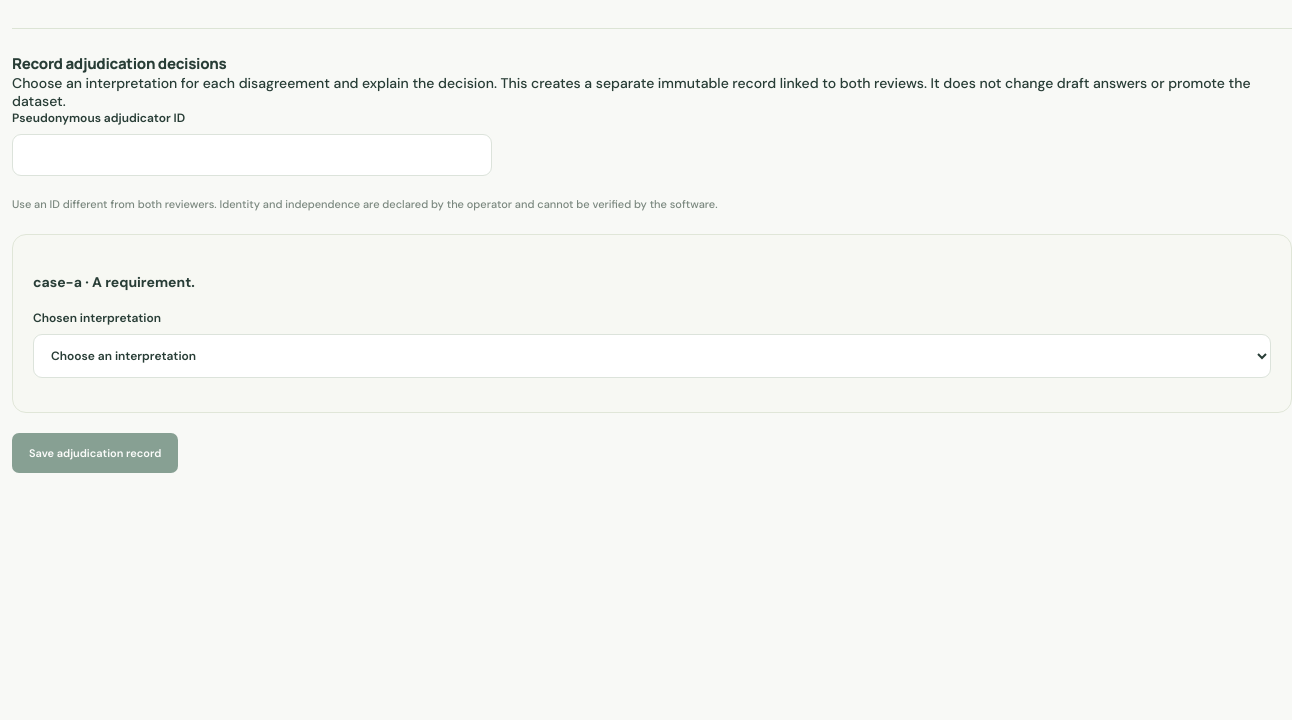
Test: selected decision is saved separately and a retry cannot create another record
Type "third-reviewer" into the field labelled "Pseudonymous adjudicator ID". click: (252,155)
box: top-left (12, 134), bottom-right (492, 176)
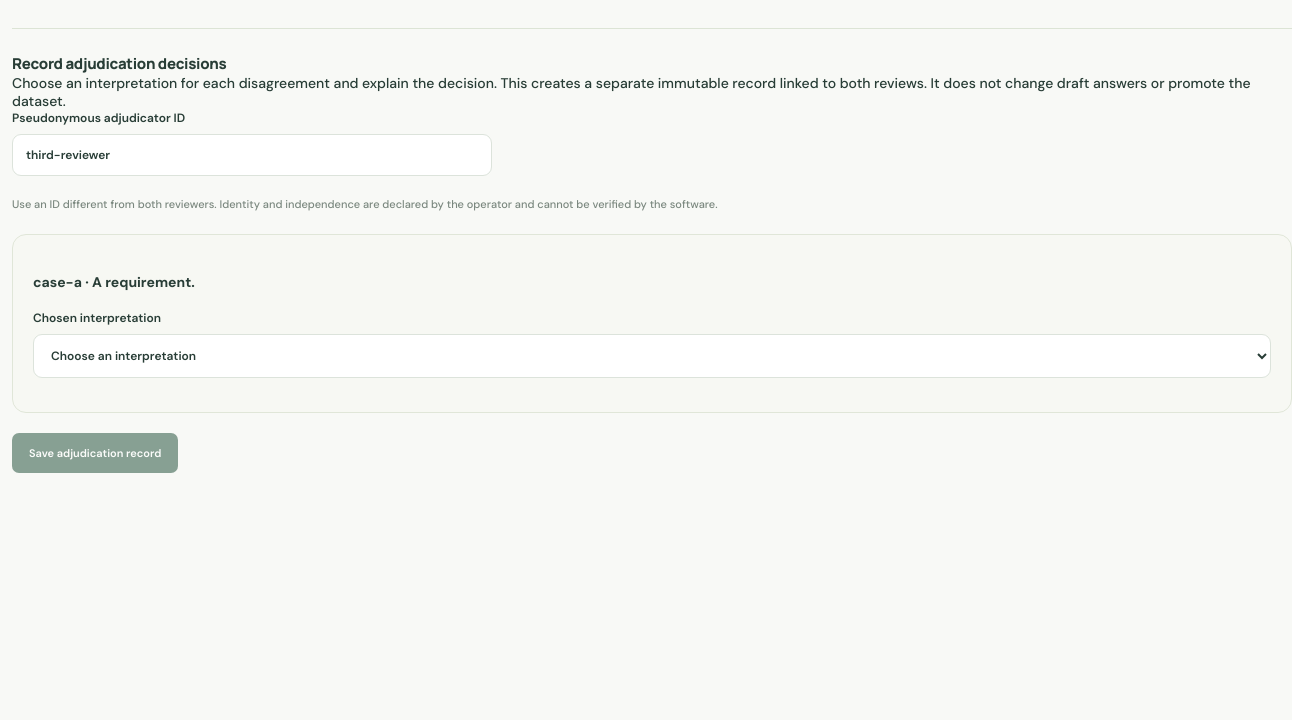
Select "reviewer-b" in the dropdown named "Chosen interpretation case-a". click: (652,356)
box: top-left (33, 334), bottom-right (1271, 378)
(page scrolled)
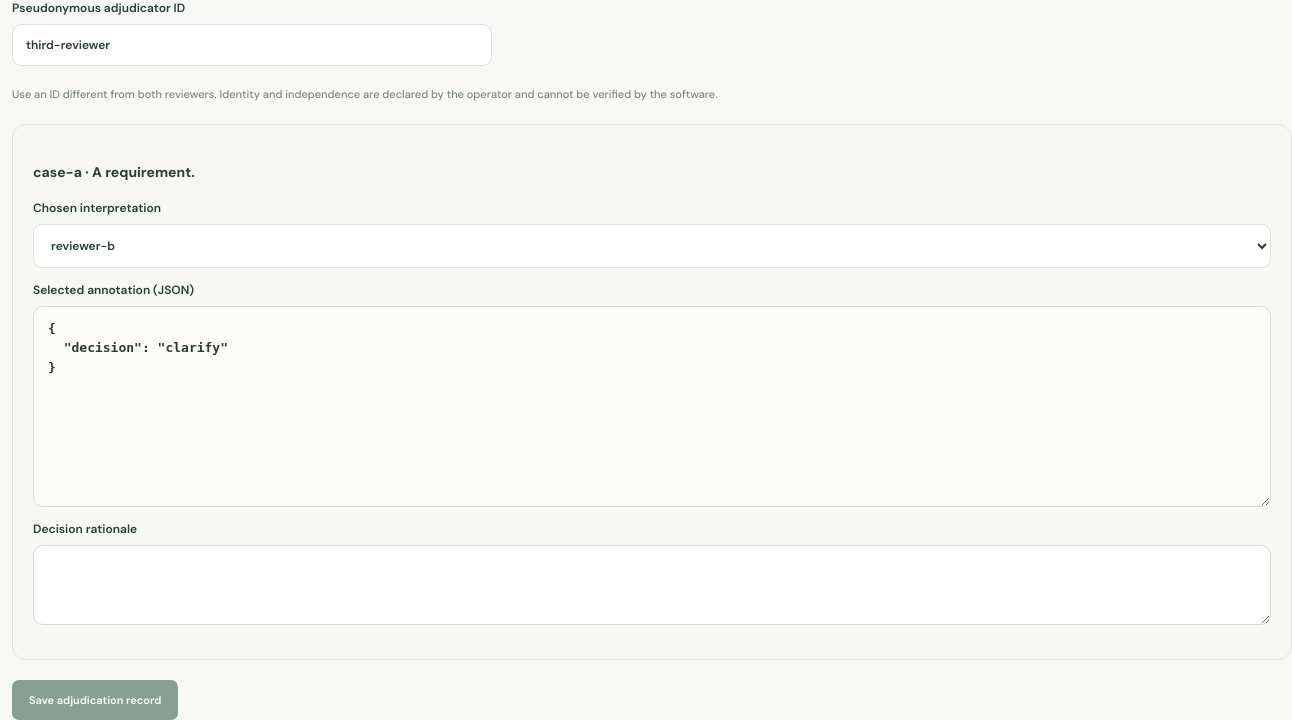
Type "Needs clarification." into the text box named "Decision rationale case-a". click: (652,585)
box: top-left (33, 545), bottom-right (1271, 625)
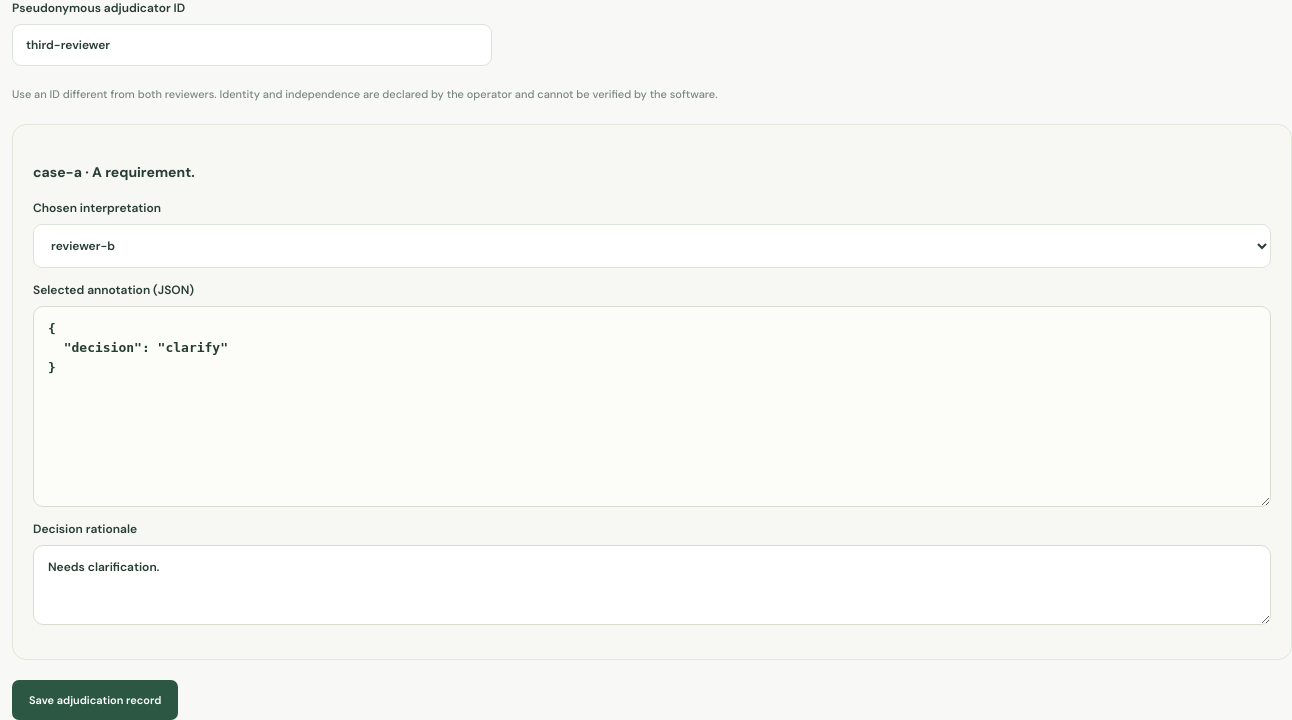
Click the button "Save adjudication record". click: (95,700)
box: top-left (12, 680), bottom-right (178, 719)
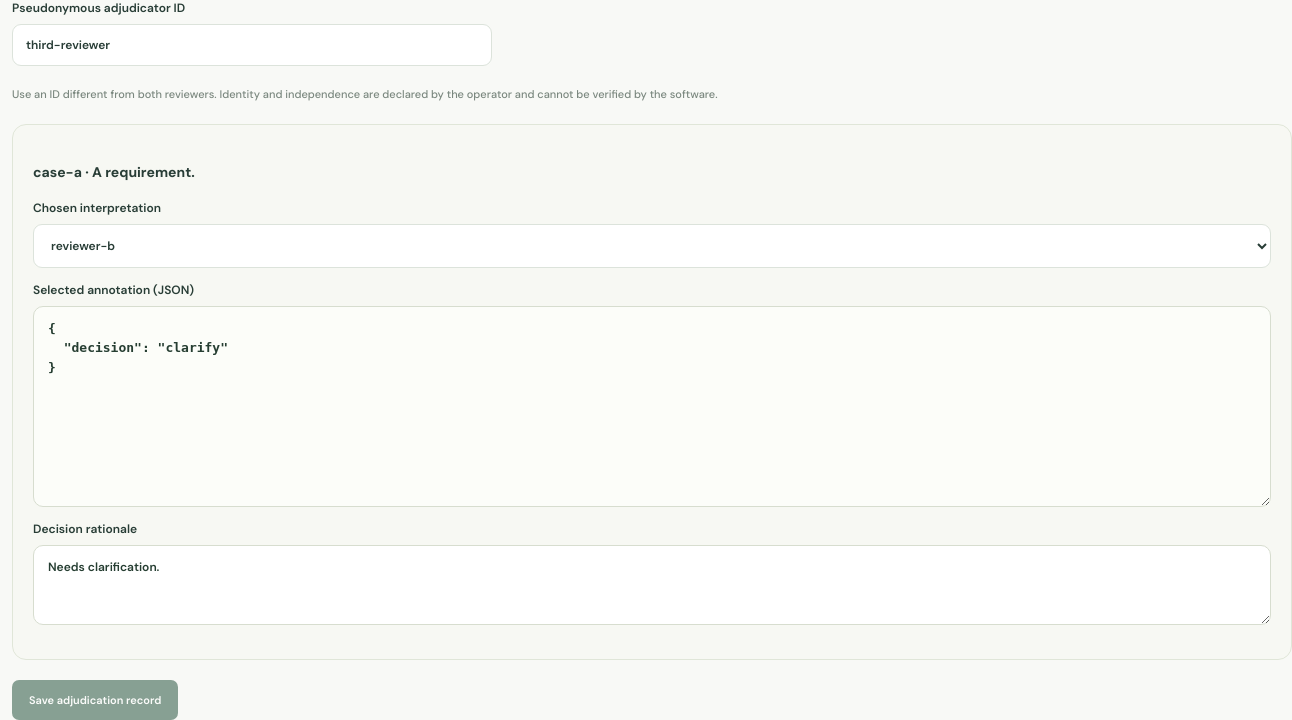
Result: the button "Save adjudication record" is disabled at top-left (12, 680), bottom-right (178, 719)
